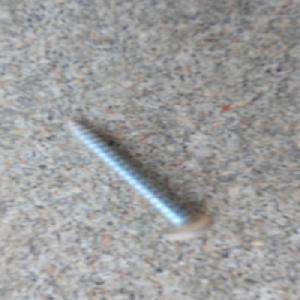Screw: (61, 115, 215, 242)
